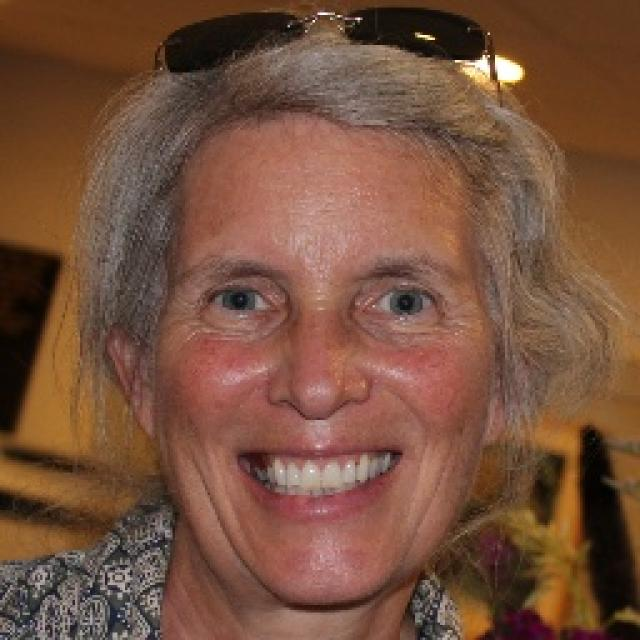earlobe: (485, 394, 510, 448), (131, 395, 157, 440)
eye: (206, 286, 281, 316), (365, 290, 442, 318)
nose: (268, 397, 364, 438)
wholeear: (106, 320, 156, 440)
